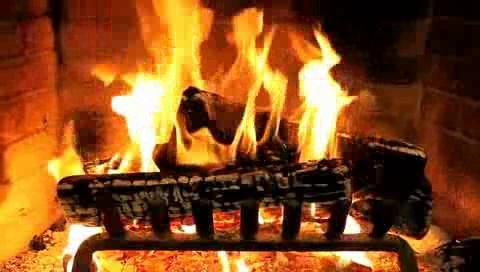fire: (100, 4, 353, 177)
